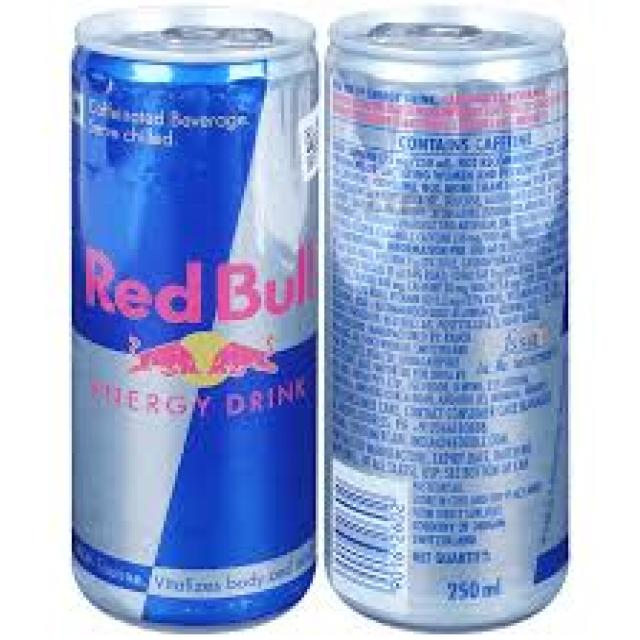red-bull: (329, 27, 573, 624), (70, 17, 318, 604)
